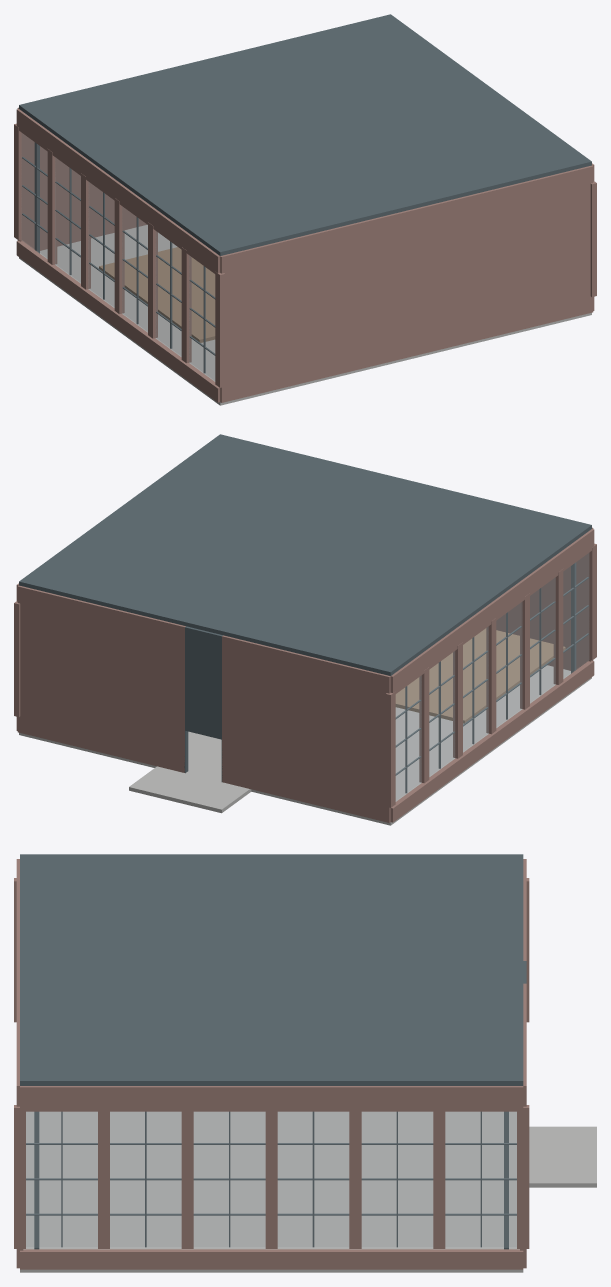
Rendered from warehouse-image-guided.glb.
3 renders of one model, top to bottom at view 1: azimuth 30°, elevation 25°; view 2: azimuth 150°, elevation 25°; view 3: azimuth 270°, elevation 25°, orthographic. The views are drawn at different scales.
Parts seen in each view (by area): view 1: roof slab, rear brick wall, concrete ground floor, front left brick, west high header, raised mezzanine, west lower sill, west glazing 2, west glazing 0, west glazing 3, west glazing 1, west glazing 5 (+9 smaller); view 2: roof slab, front right brick, front left brick, concrete ground floor, raised mezzanine, west high header, front door lintel, west lower sill, rear brick wall, entry apron, west glazing 3, west glazing 5 (+12 smaller); view 3: roof slab, concrete ground floor, east high header, east lower sill, east glazing 5, east glazing 4, east glazing 0, east glazing 3, east glazing 2, east glazing 1, entry apron, east pier 0 (+11 smaller).
Part boxes in pixels (bbox=[...]): roof slab: bbox=[19, 14, 591, 255]; rear brick wall: bbox=[220, 165, 593, 402]; concrete ground floor: bbox=[19, 224, 591, 405]; front left brick: bbox=[17, 107, 146, 250]; west high header: bbox=[16, 109, 220, 273]; raised mezzanine: bbox=[99, 247, 215, 342]; west lower sill: bbox=[16, 240, 220, 402]; west glazing 2: bbox=[88, 182, 114, 307]; west glazing 0: bbox=[21, 133, 47, 258]; west glazing 3: bbox=[122, 207, 147, 331]; west glazing 1: bbox=[55, 158, 80, 282]; west glazing 5: bbox=[189, 256, 214, 380]; roof slab: bbox=[19, 434, 591, 675]; front right brick: bbox=[17, 585, 185, 772]; front left brick: bbox=[222, 635, 390, 822]; concrete ground floor: bbox=[19, 665, 591, 825]; raised mezzanine: bbox=[395, 628, 565, 723]; west high header: bbox=[390, 529, 594, 693]; front door lintel: bbox=[185, 626, 222, 739]; west lower sill: bbox=[390, 660, 594, 822]; rear brick wall: bbox=[496, 527, 593, 670]; entry apron: bbox=[129, 766, 251, 813]; west glazing 3: bbox=[496, 602, 522, 727]; west glazing 5: bbox=[563, 553, 589, 678]; roof slab: bbox=[20, 854, 523, 1085]; concrete ground floor: bbox=[20, 1111, 523, 1272]; east high header: bbox=[20, 1086, 523, 1111]; east lower sill: bbox=[20, 1249, 523, 1269]; east glazing 5: bbox=[26, 1112, 97, 1247]; east glazing 4: bbox=[110, 1112, 181, 1247]; east glazing 0: bbox=[445, 1112, 516, 1247]; east glazing 3: bbox=[194, 1112, 265, 1247]; east glazing 2: bbox=[278, 1112, 348, 1247]; east glazing 1: bbox=[362, 1112, 432, 1247]; entry apron: bbox=[529, 1126, 596, 1187]; east pier 0: bbox=[517, 1105, 529, 1248].
Bounding box in the file's own units: 32.44 × 12.62 × 34.76.
